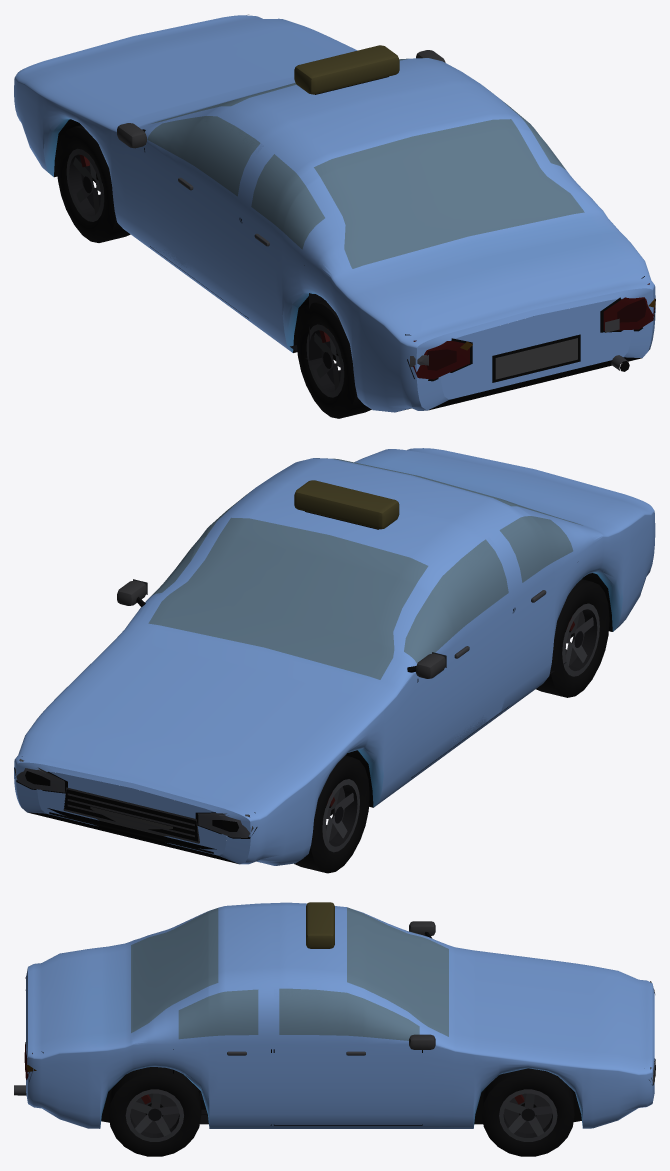
Rendered from cv2_taxi.glb.
3 views of the same model, one above another, from view 1: azimuth 30°, elevation 25°; view 2: azimuth 150°, elevation 25°; view 3: azimuth 270°, elevation 25° (orthographic). The views are drawn at different scales.
Parts seen in each view (by area): view 1: Body, DoorL_Mesh; view 2: Body, DoorL_Mesh; view 3: Body, DoorR_Mesh.
Boxes of the visible parts, x1,y1,x2,y2 form: Body: (14,14,655,418); DoorL_Mesh: (144,116,263,300); Body: (14,448,655,873); DoorL_Mesh: (403,537,513,756); Body: (14,902,655,1156); DoorR_Mesh: (274,988,421,1101).
Size of what is drawn, in the model's own units: 2.15 by 1.59 by 4.85.
